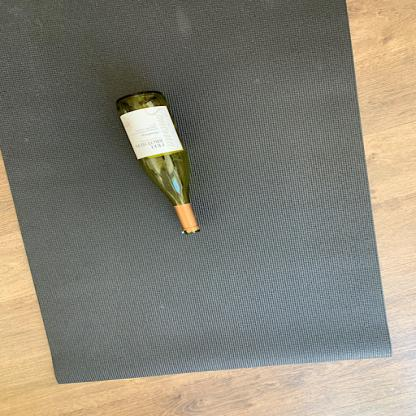trash: (115, 83, 204, 239)
